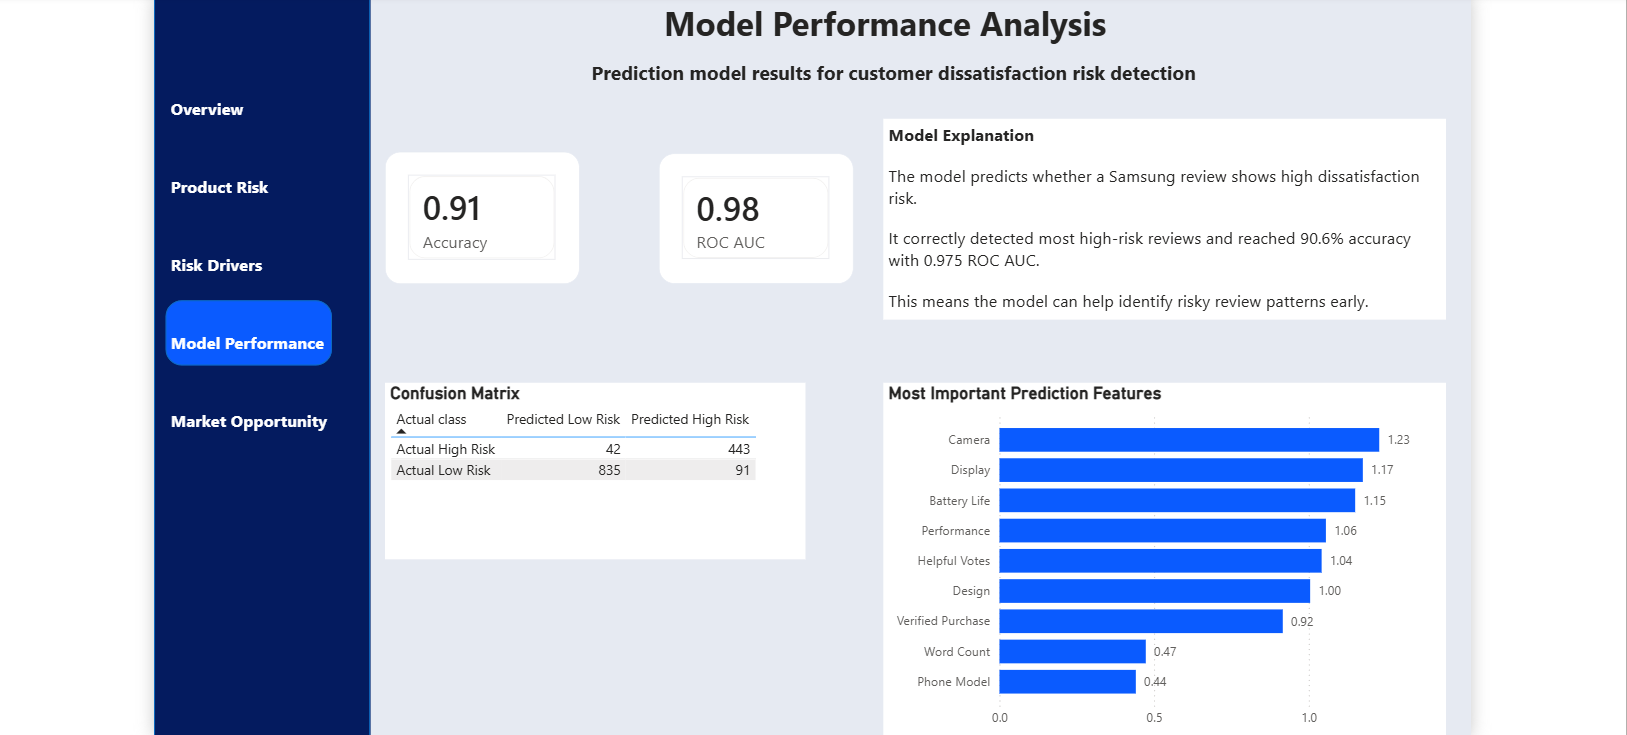

The page's visual inventory and layout, read from the dashboard file:
{"tool":"powerbi","page":{"name":"Model Performance","canvas":[1280,720],"ordinal":3},"visuals":[{"type":"shape","box":[0,0,210,721.7],"z":0},{"type":"tableEx","title":"Confusion Matrix","fields":{"Values":["samsung_confusion_matrix.actual_class","Sum(samsung_confusion_matrix.Predicted Low Risk)","Sum(samsung_confusion_matrix.Predicted High Risk)"]},"box":[225,376.7,408.3,171.7],"z":1000},{"type":"clusteredBarChart","title":"Most Important Prediction Features","fields":{"Category":["samsung_model_feature_importance.Clean Feature"],"Y":["Sum(samsung_model_feature_importance.absolute_importance)"]},"box":[708.3,376.7,546.7,343.3],"z":2000},{"type":"textbox","box":[490,0,553.3,76.7],"z":3000},{"type":"shape","box":[11.7,296.7,161.7,63.3],"z":4000},{"type":"textbox","box":[11.7,76.7,188.3,408.3],"z":5000},{"type":"textbox","box":[420,58.3,823.3,121.7],"z":6000},{"type":"cardVisual","fields":{"Data":["samsung_model_metrics.Model Accuracy"]},"box":[225,151.7,189,128.3],"z":7000},{"type":"cardVisual","fields":{"Data":["samsung_model_metrics.ROC AUC"]},"box":[490,153.3,189,126.7],"z":8000},{"type":"textbox","box":[708.3,120,546.7,195],"z":9000}]}

Visuals, with their boxes on the page's 1280x720 design canvas (x1, y1, x2, y2). These are canvas units, not pixel positions in the 1627x735 screenshot, which may show the page scaled, cropped or inside an application window:
shape: [0,0,210,722]
"Confusion Matrix" tableEx: [225,377,633,548]
"Most Important Prediction Features" clusteredBarChart: [708,377,1255,720]
textbox: [490,0,1043,77]
shape: [12,297,173,360]
textbox: [12,77,200,485]
textbox: [420,58,1243,180]
cardVisual - samsung_model_metrics.Model Accuracy: [225,152,414,280]
cardVisual - samsung_model_metrics.ROC AUC: [490,153,679,280]
textbox: [708,120,1255,315]
